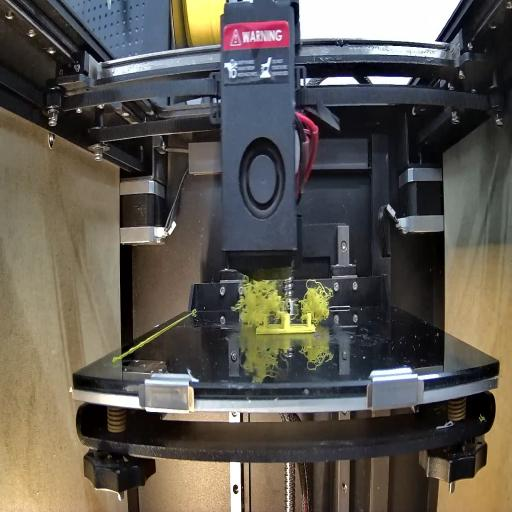spaghetti: (233, 281, 284, 323), (298, 274, 332, 325)
